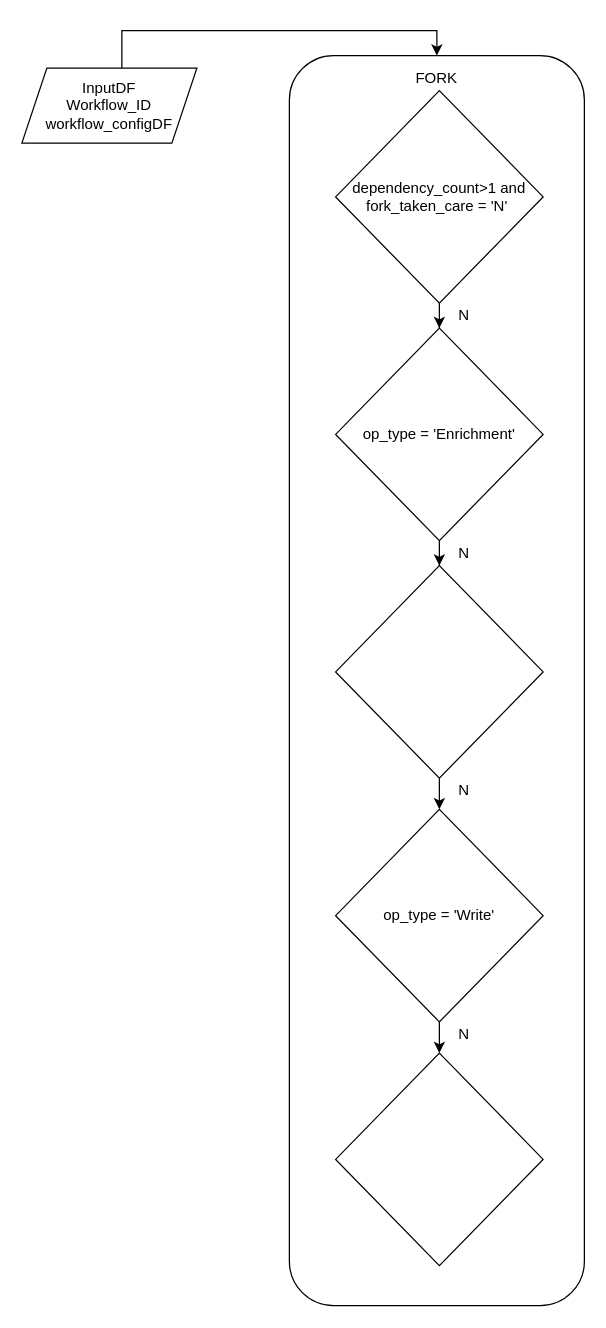
The diagram is 606 pixels wide and 1328 high, and some of its shapes have lost their labels. The centre of each missing label's shape, as x and y in pixels:
"op_type = 'Aggregation'" belongs at pixel 438 671.
"op_type = 'Union'" belongs at pixel 438 1159.
